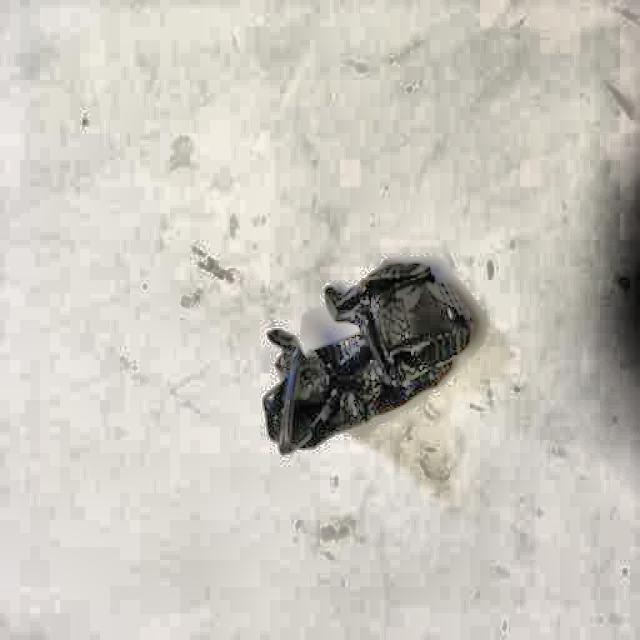plastic: (267, 264, 468, 451)
